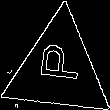P_W: (33, 48, 83, 90)
